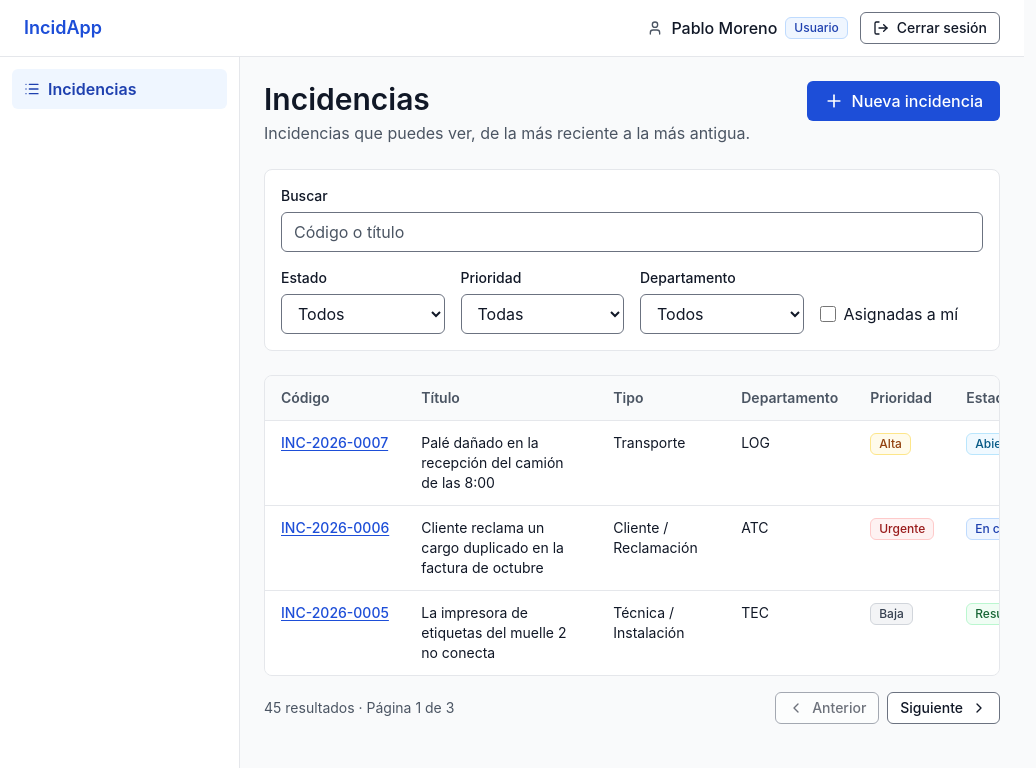
Scenario: CA-03.12 · listado de incidencias › buscar desde la página 3 hace una sola petición nueva: el texto en la página 1
The width and height of the screenshot is (1036, 768).
Click the button "Siguiente" at (944, 708), box [887,692,1000,724]
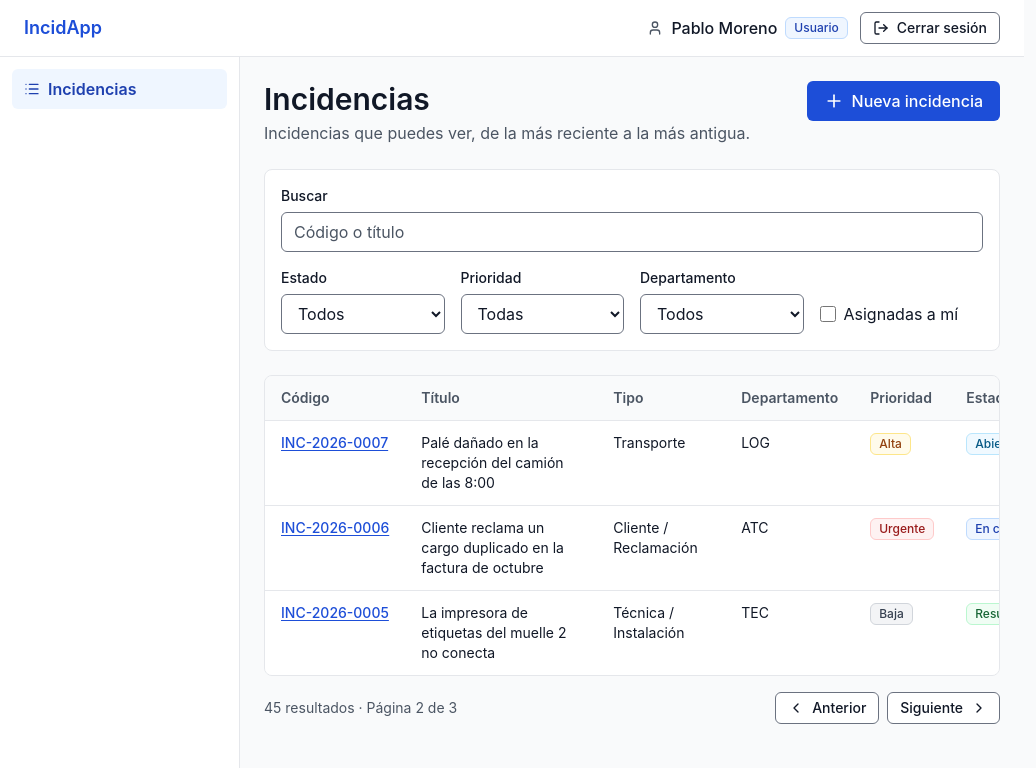
expect the text "45 resultados · Página 2 de 3" is shown: met, box [264,698,457,718]
Click the button "Siguiente" at (944, 708), box [887,692,1000,724]
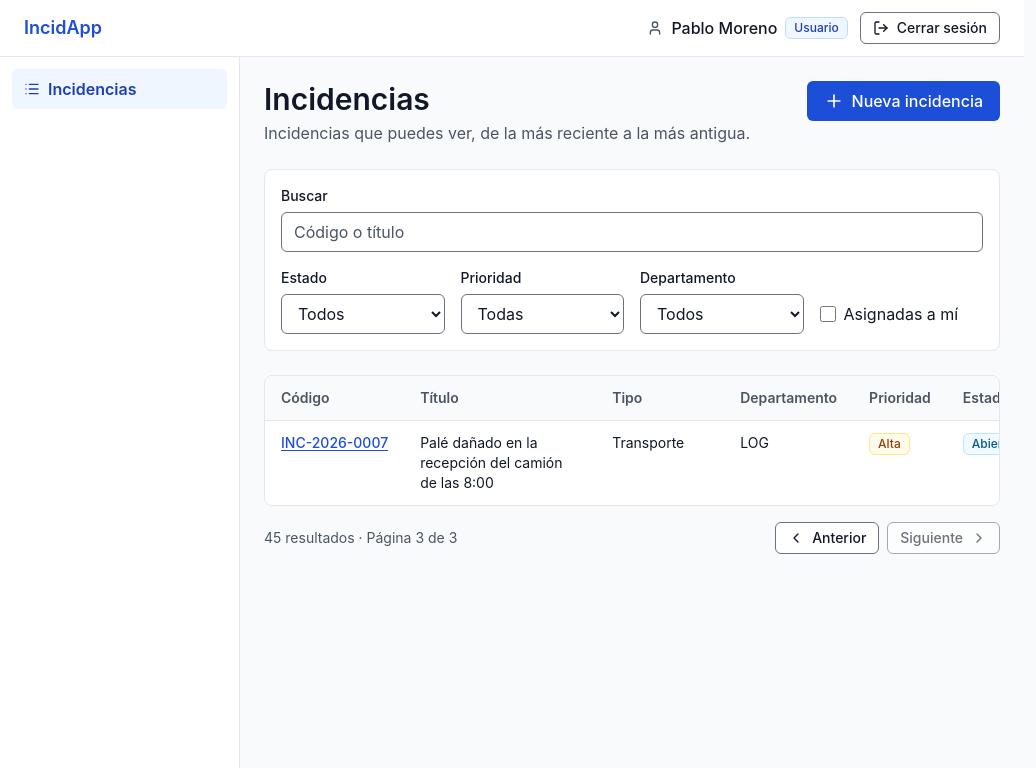
expect the text "45 resultados · Página 3 de 3" is shown: met, box [264,528,457,548]
Type "palé" into the search field labelled "Buscar" at (632, 232), box [281,212,983,252]
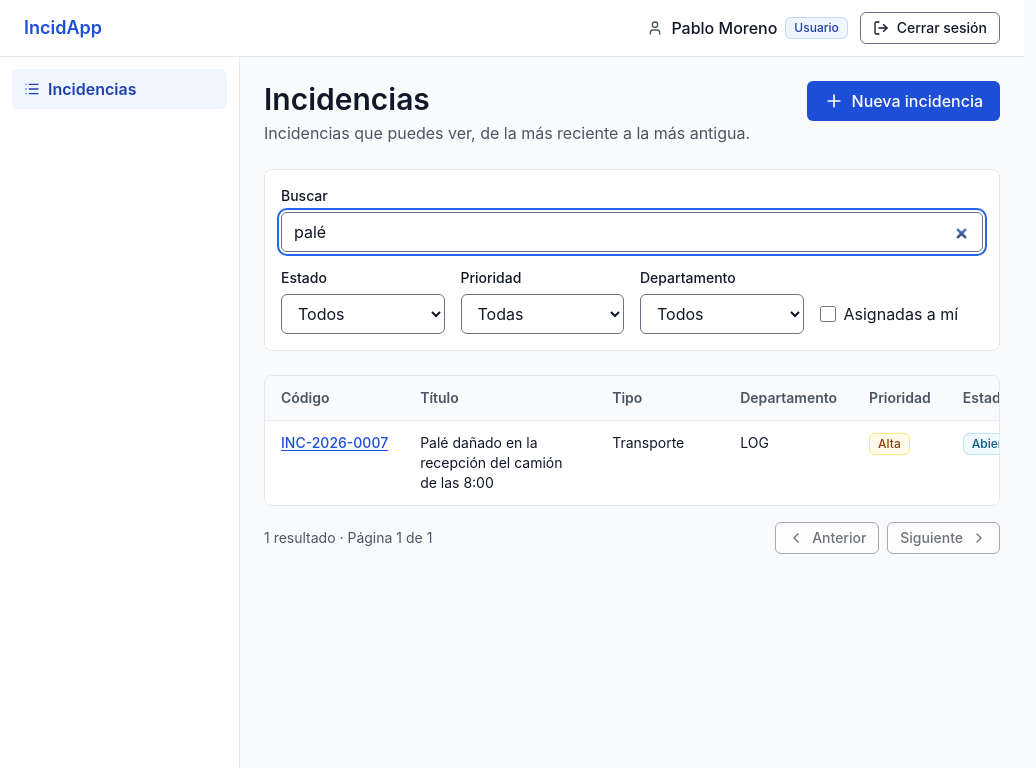
expect the text "1 resultado · Página 1 de 1" is shown: met, box [264,528,432,548]
